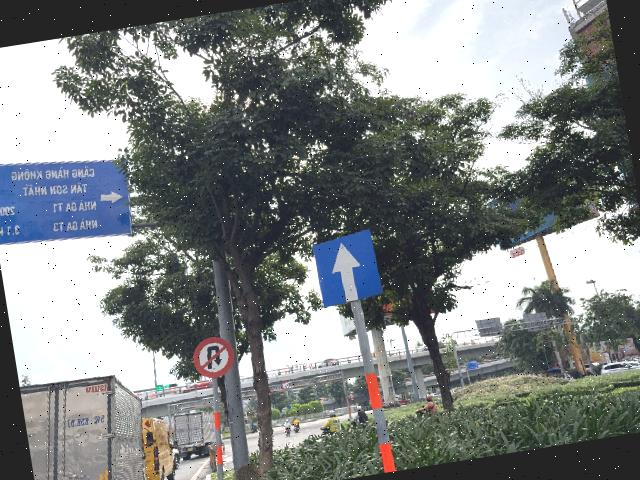cam-quay-dau-xe: (190, 334, 237, 381)
duong-mot-chieu: (310, 228, 384, 308)
